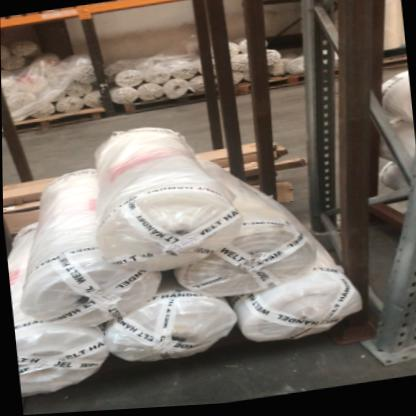vertical_damage: (362, 278, 416, 372)
